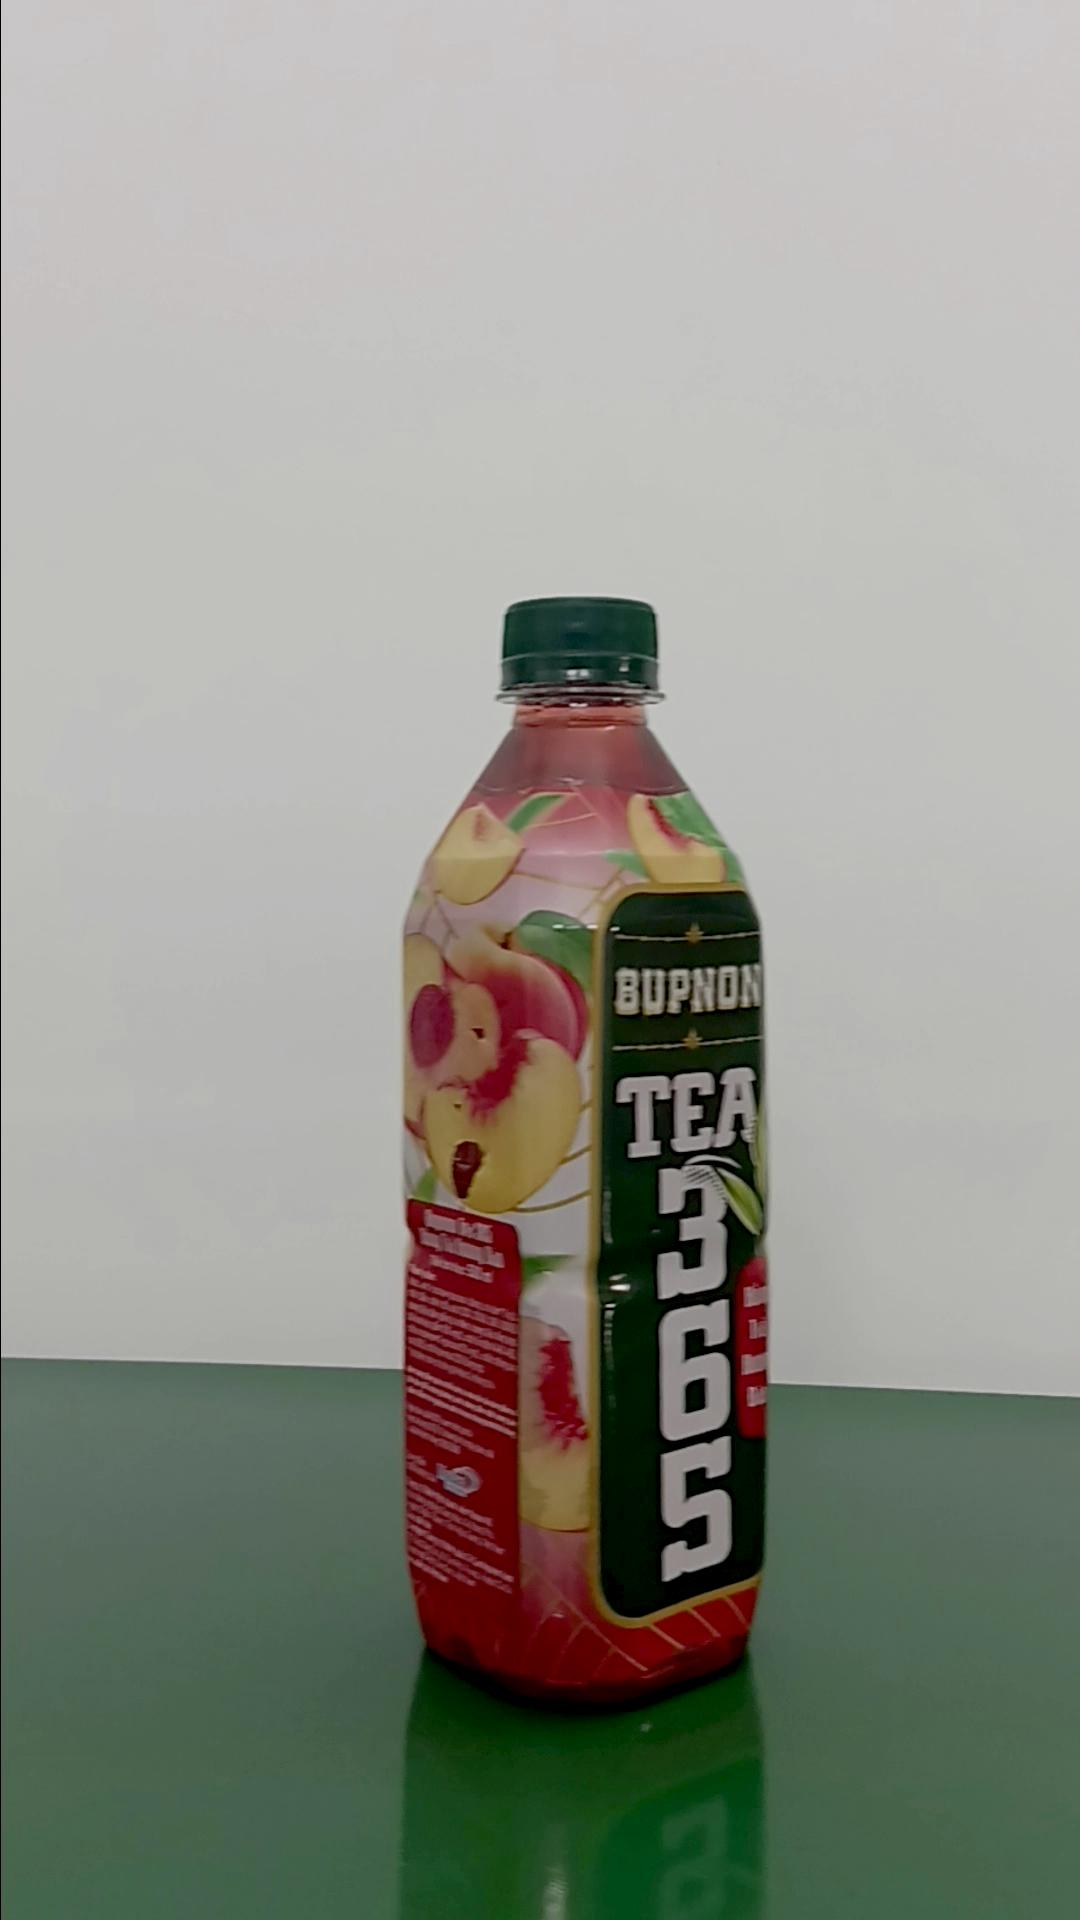loi rach va lap chai: (396, 589, 775, 1726)
